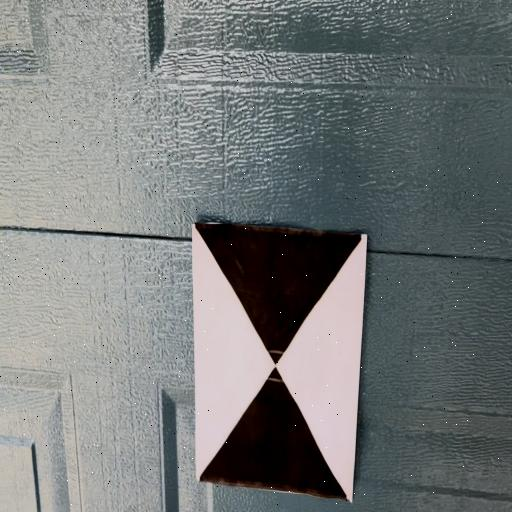target: (193, 223, 368, 503)
